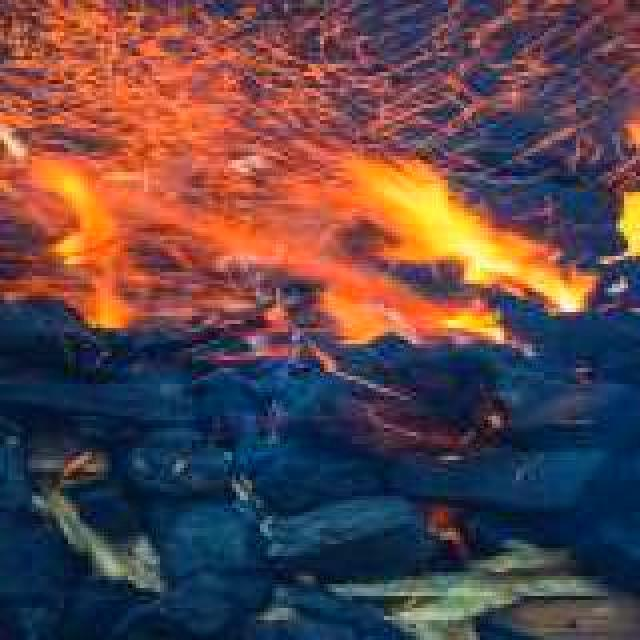fire: (0, 32, 640, 360)
